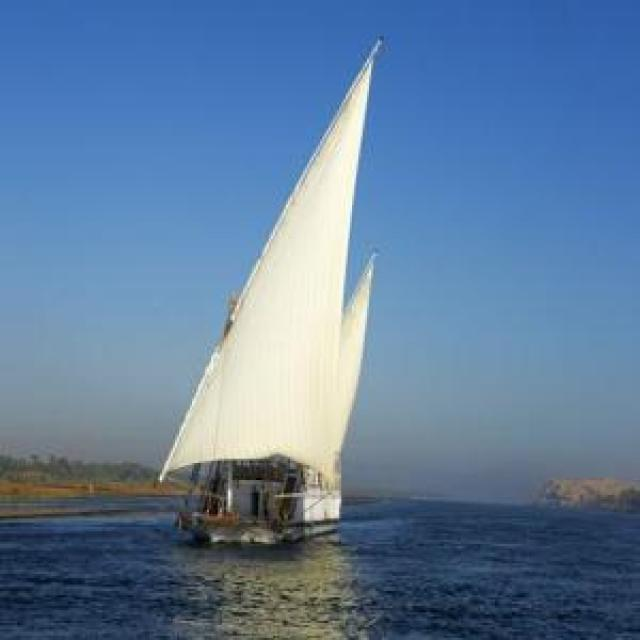sailboat: (164, 28, 384, 546)
